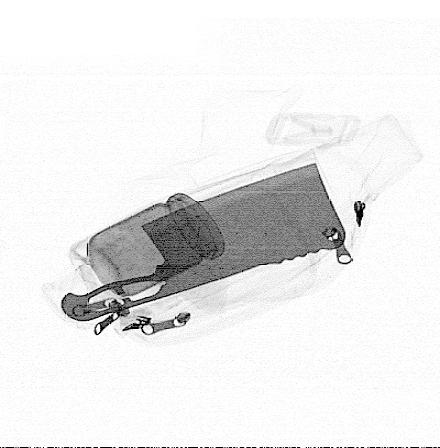Knife: (59, 161, 349, 322)
